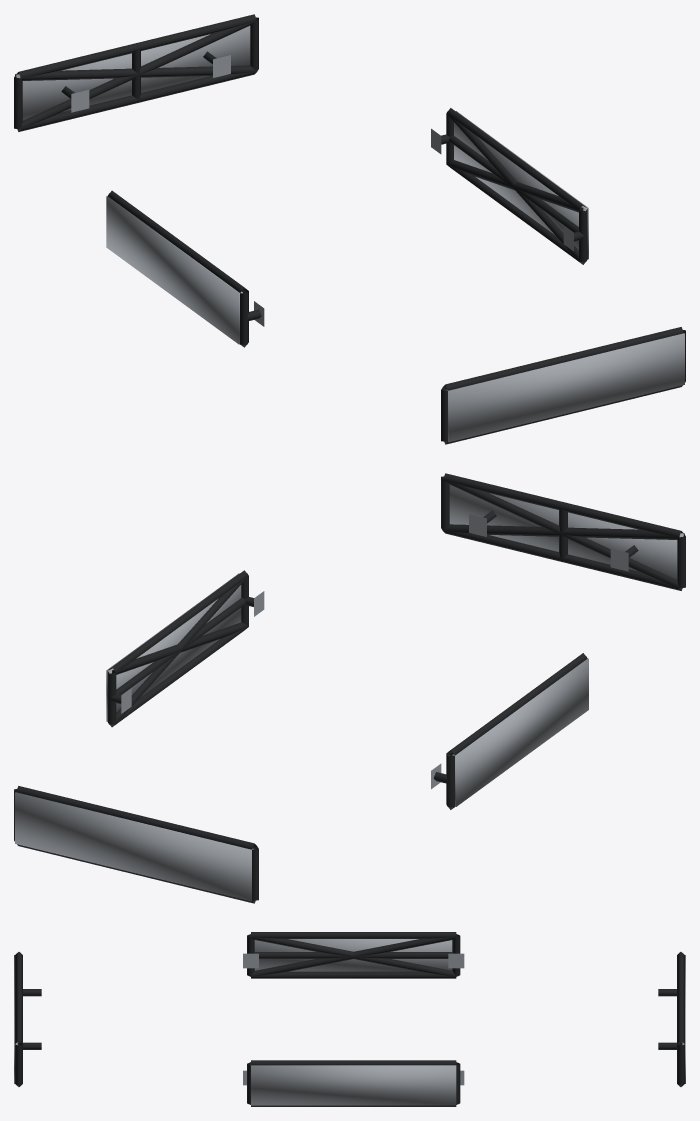
Rendered from garrison_aster_protecao.glb.
3 views of the same model, one above another, from view 1: azimuth 30°, elevation 25°; view 2: azimuth 150°, elevation 25°; view 3: azimuth 270°, elevation 25° (orthographic). The views are drawn at different scales.
Parts seen in each view (by area): view 1: Protection_front_Level3_Details, Protection_left_Level3_Details, Protection_rear_Level1_Details, Protection_rear_Level3_Details, Protection_rear_Level2_Details, Protection_right_Level1_Details, Protection_right_Level2_Details, Protection_front_Level1_Details, Protection_right_Level3_Details, Protection_left_Level1_Details; view 2: Protection_rear_Level3_Details, Protection_left_Level3_Details, Protection_front_Level1_Details, Protection_front_Level3_Details, Protection_front_Level2_Details, Protection_right_Level1_Details, Protection_right_Level2_Details, Protection_right_Level3_Details, Protection_rear_Level1_Details, Protection_left_Level1_Details; view 3: Protection_right_Level3_Details, Protection_left_Level2_Details, Protection_left_Level1_Details, Protection_left_Level3_Details, Protection_right_Level1_Details, Protection_rear_Level1_Details, Protection_front_Level1_Details.
Boxes of the visible parts, x1,y1,x2,y2 form: Protection_front_Level3_Details: (446,333,684,442); Protection_left_Level3_Details: (106,196,242,344); Protection_rear_Level1_Details: (14,14,258,131); Protection_rear_Level3_Details: (15,26,250,120); Protection_rear_Level2_Details: (16,21,256,130); Protection_right_Level1_Details: (431,108,587,264); Protection_right_Level2_Details: (446,114,586,264); Protection_front_Level1_Details: (441,327,685,444); Protection_right_Level3_Details: (454,111,588,259); Protection_left_Level1_Details: (108,190,264,347); Protection_rear_Level3_Details: (15,792,253,901); Protection_left_Level3_Details: (452,658,588,806); Protection_front_Level1_Details: (441,473,685,590); Protection_front_Level3_Details: (449,485,684,579); Protection_front_Level2_Details: (443,480,683,589); Protection_right_Level1_Details: (107,570,264,727); Protection_right_Level2_Details: (108,577,248,726); Protection_right_Level3_Details: (106,573,241,721); Protection_rear_Level1_Details: (14,786,258,903); Protection_left_Level1_Details: (431,653,587,809); Protection_right_Level3_Details: (251,1065,456,1105); Protection_left_Level2_Details: (250,934,456,976); Protection_left_Level1_Details: (243,932,464,978); Protection_left_Level3_Details: (254,939,452,971); Protection_right_Level1_Details: (243,1060,464,1106); Protection_rear_Level1_Details: (658,952,684,1086); Protection_front_Level1_Details: (15,952,41,1086).
Bounding box in the file's own units: 2.15 × 0.354 × 4.61.
Materials: 1 (1 with a texture image).
